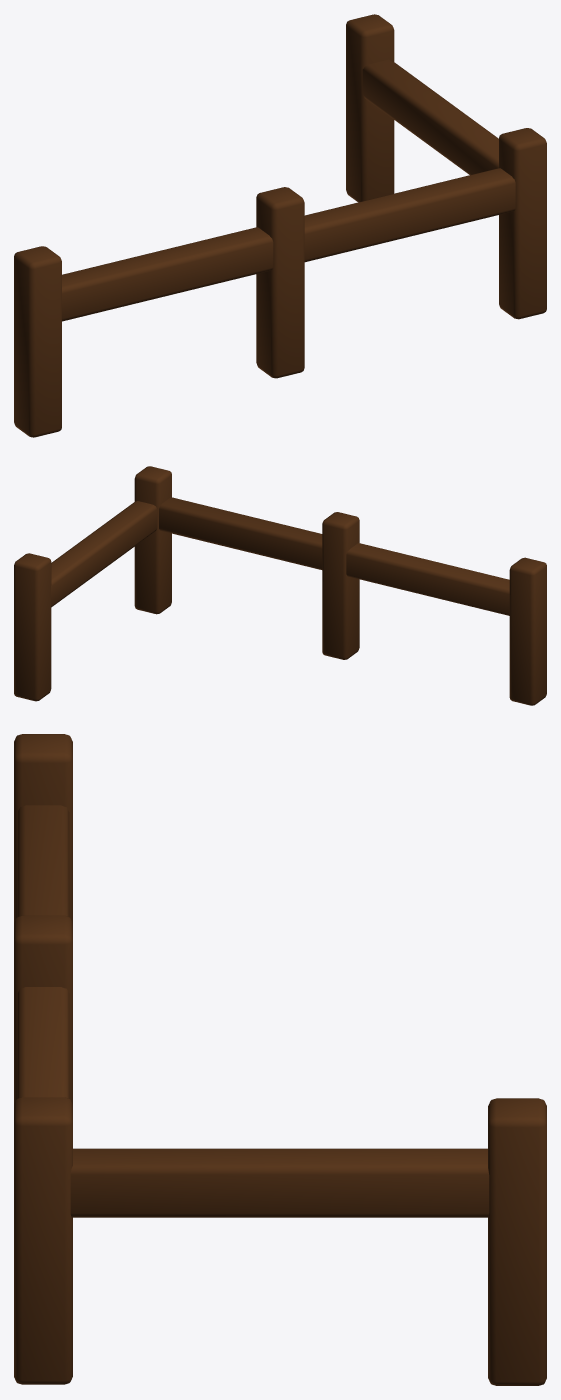
File: Ramp.fbx
3 renders of one model, top to bottom at view 1: azimuth 30°, elevation 25°; view 2: azimuth 150°, elevation 25°; view 3: azimuth 270°, elevation 25°, orthographic. The views are drawn at different scales.
Parts seen in each view (by area): view 1: Cube.109; view 2: Cube.109; view 3: Cube.109.
Boxes of the visible parts, <box> form: Cube.109: <box>14,14,546,437</box>; Cube.109: <box>14,466,546,705</box>; Cube.109: <box>14,734,546,1385</box>.
Size of the model in its own units: 2.25 by 0.7255 by 1.3.
